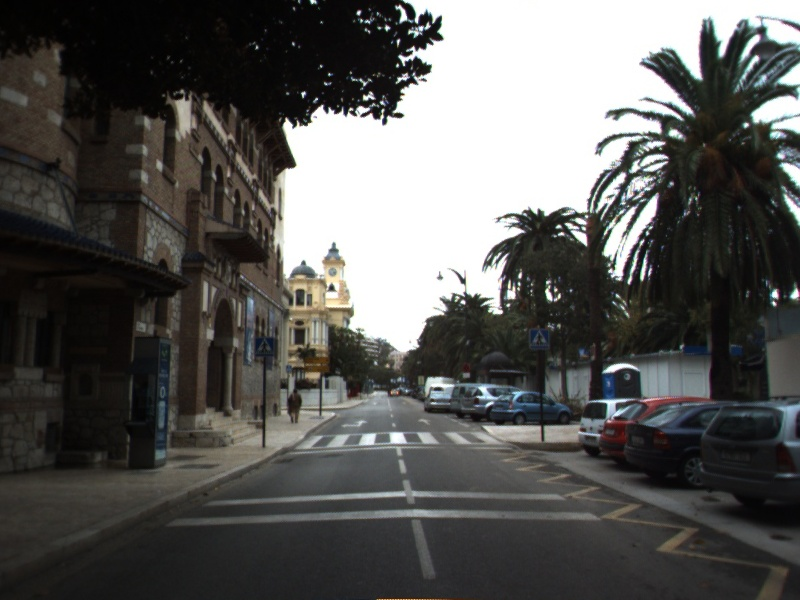STRAIGHT: (416, 416, 433, 427)
STRAIGHT_LEFT: (339, 418, 369, 429)
